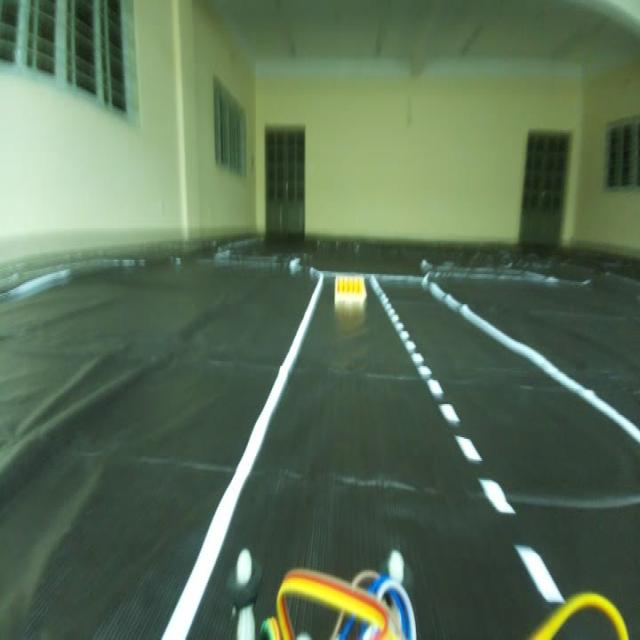roadblock: (330, 265, 370, 310)
